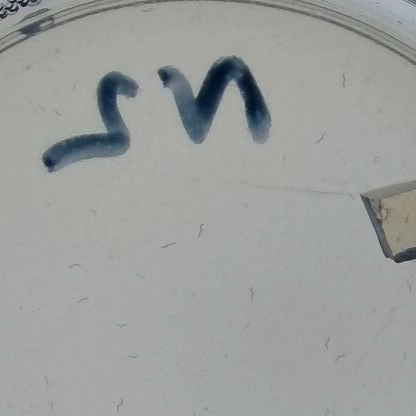worm: (157, 230, 178, 261), (37, 368, 58, 397), (133, 2, 158, 25), (65, 258, 84, 282), (63, 77, 81, 101), (190, 221, 207, 246), (111, 393, 131, 414), (320, 331, 336, 356), (233, 320, 250, 341), (44, 105, 65, 122), (332, 349, 347, 372), (392, 351, 410, 370), (71, 293, 89, 311), (245, 279, 259, 302), (400, 277, 416, 297), (313, 125, 329, 145), (0, 399, 17, 416), (85, 204, 101, 222), (122, 348, 144, 361), (41, 400, 57, 416), (132, 270, 148, 285), (340, 69, 350, 91), (111, 318, 132, 328), (35, 100, 48, 115)
